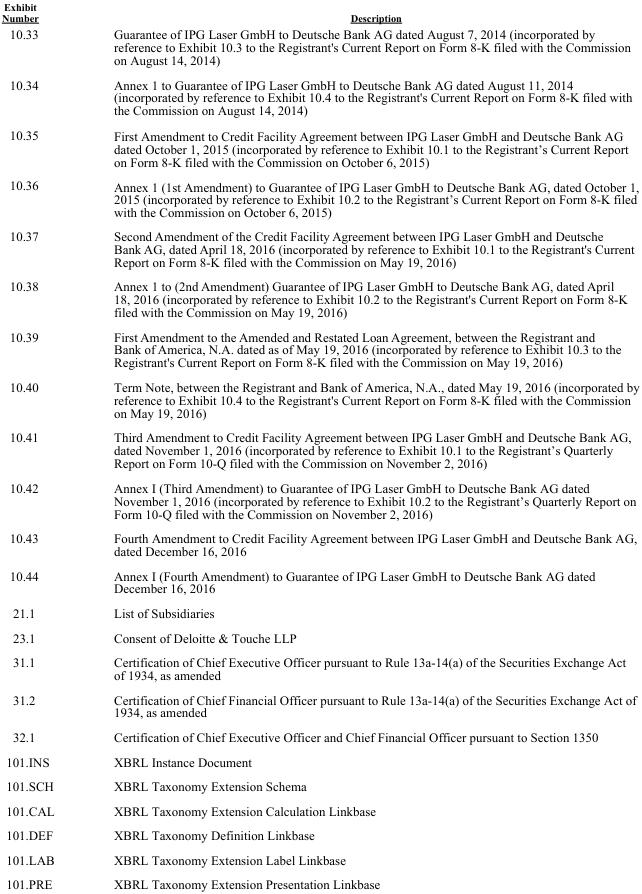table: (1, 0, 638, 891)
table column: (83, 0, 638, 891), (1, 0, 83, 891)
table column header: (1, 0, 638, 24)
table row: (1, 71, 638, 122), (1, 122, 638, 173), (1, 323, 638, 374), (1, 424, 638, 475), (1, 173, 638, 223), (1, 223, 638, 273), (1, 273, 638, 323), (1, 374, 638, 424), (1, 475, 638, 525), (1, 24, 638, 71), (1, 562, 638, 600), (1, 686, 638, 724), (1, 525, 638, 562), (1, 649, 638, 686), (1, 624, 638, 649), (1, 748, 638, 773), (1, 773, 638, 798), (1, 822, 638, 847), (1, 0, 638, 24), (1, 600, 638, 624), (1, 724, 638, 748), (1, 798, 638, 822), (1, 847, 638, 871), (1, 871, 638, 891)
